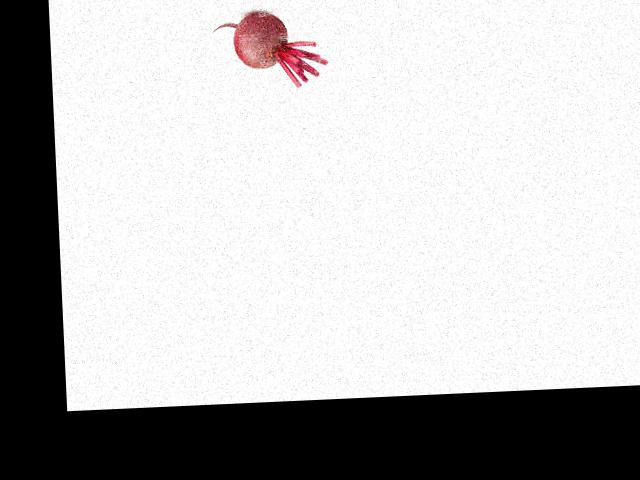beet: (212, 9, 329, 90)
